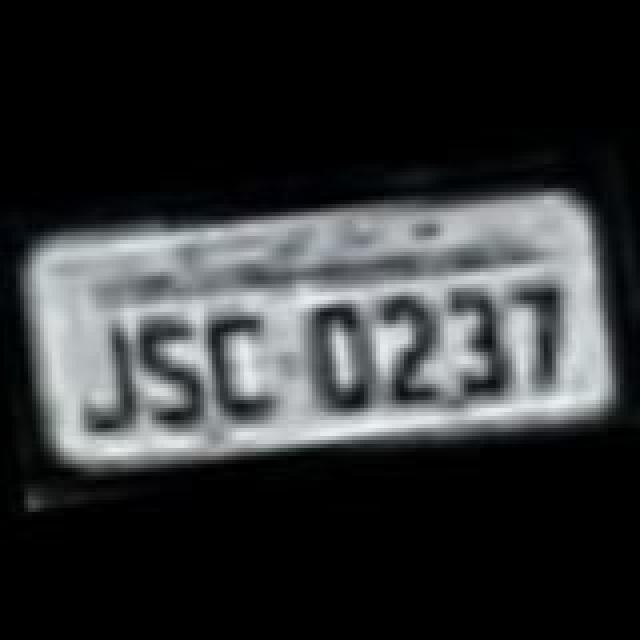2: (360, 288, 444, 412)
3: (438, 284, 518, 408)
7: (496, 276, 580, 404)
C: (196, 302, 288, 422)
J: (68, 322, 148, 438)
O: (300, 300, 376, 420)
S: (126, 308, 214, 432)
